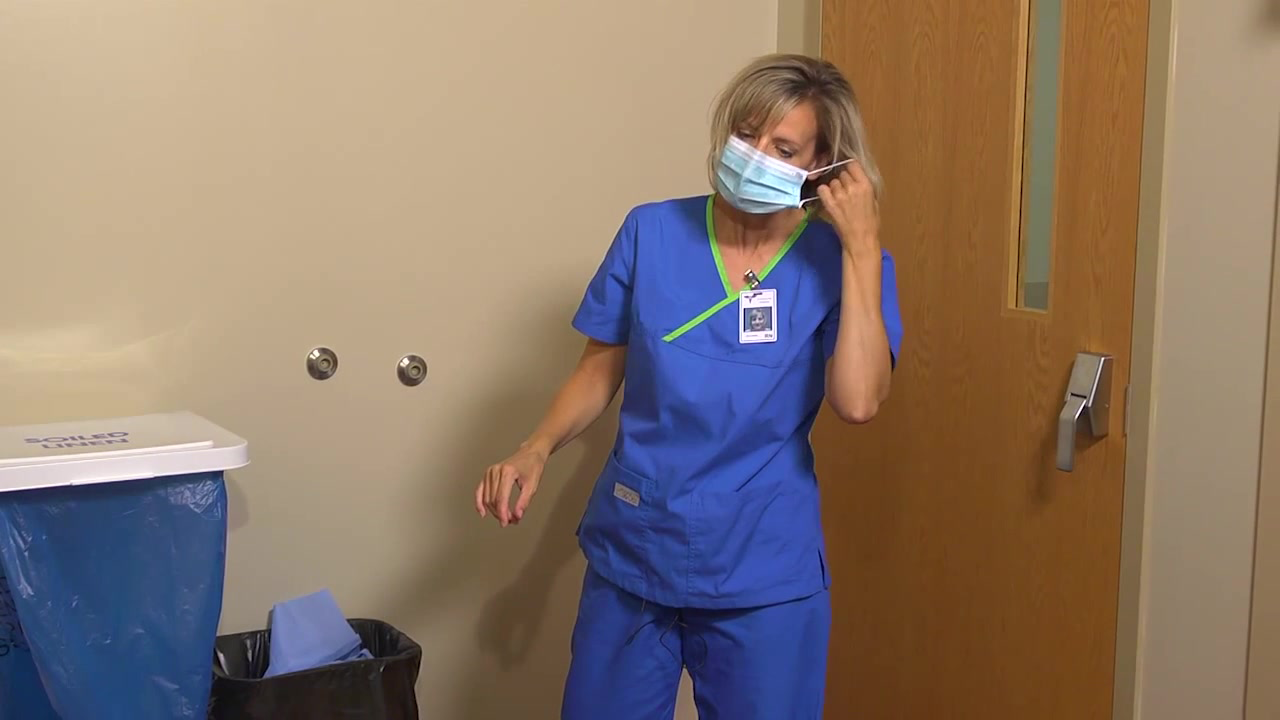with_mask: (705, 127, 824, 222)
